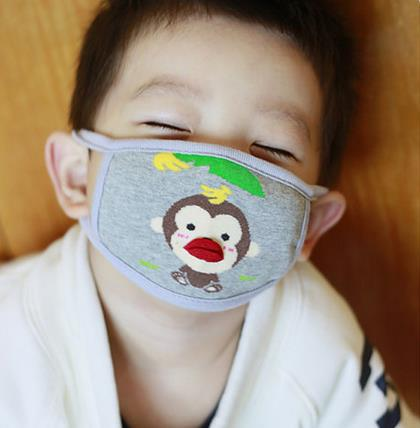OK: (85, 75, 311, 301)
